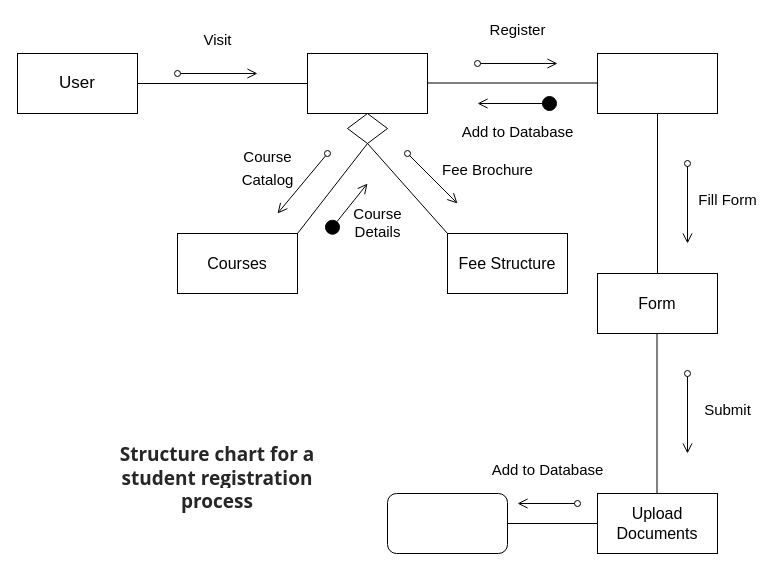
This 774x571 diagram has some shape labels left out. The centre of each missing label's shape, as x and y in pixels:
Maintain Database: [447,523]
Registration: [657,83]
Web Page: [367,83]
